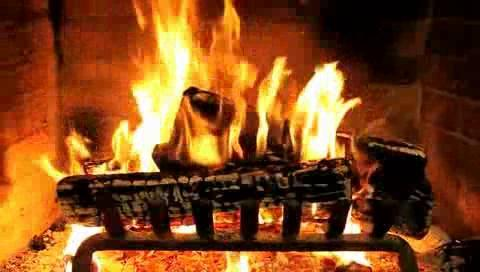fire: (22, 4, 480, 186)
